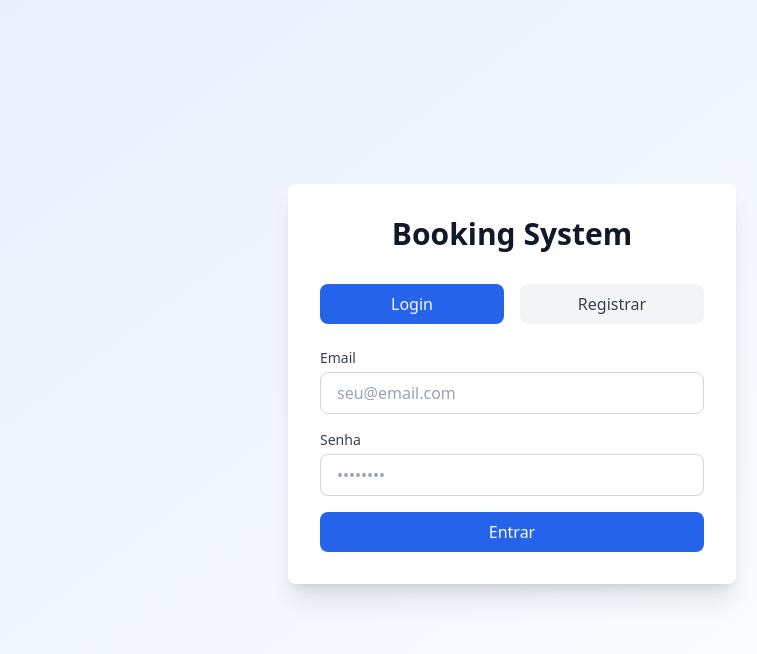
it: LoginPage › deve exibir erro quando login falha
Type "test@example.com" into the field labelled "Email" at [512, 393], box [320,372,704,414]
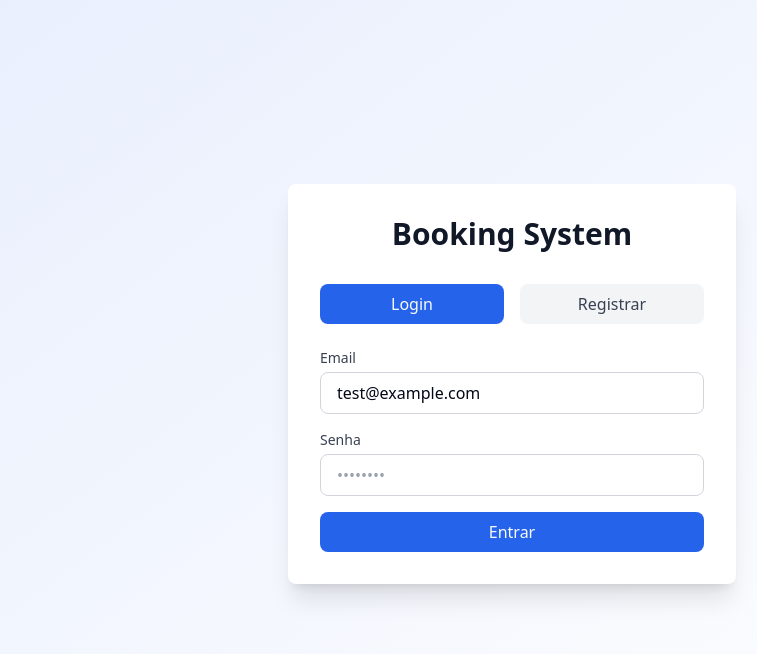
Type "wrongpassword" into the password field labelled "Senha" at [512, 475], box [320,454,704,496]
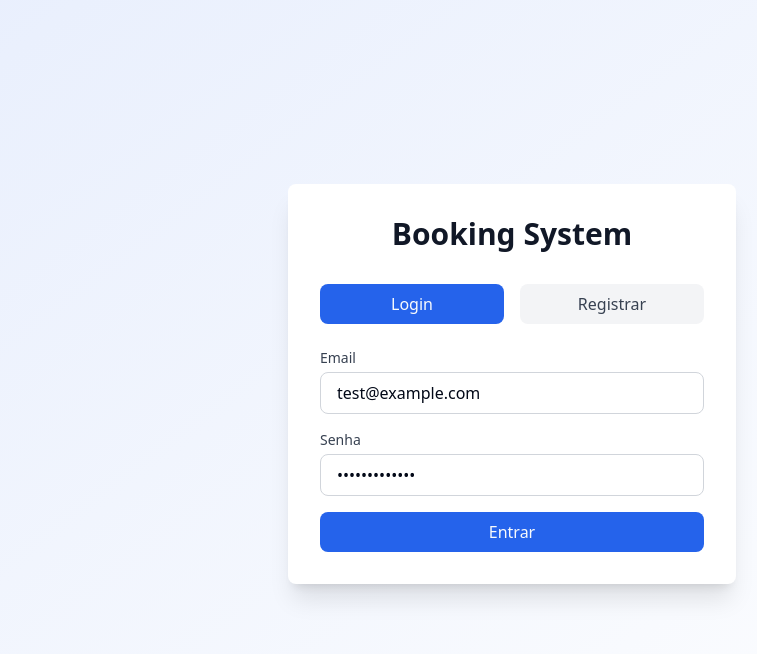
Click the button "Entrar" at [512, 532], box [320,512,704,552]
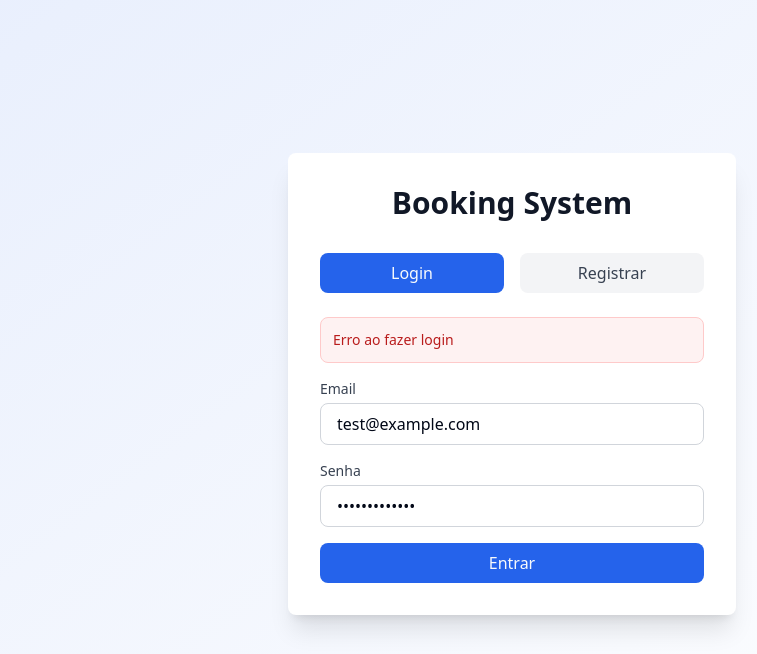
Result: the text "Erro ao fazer login" is shown at [320,317,704,363]
